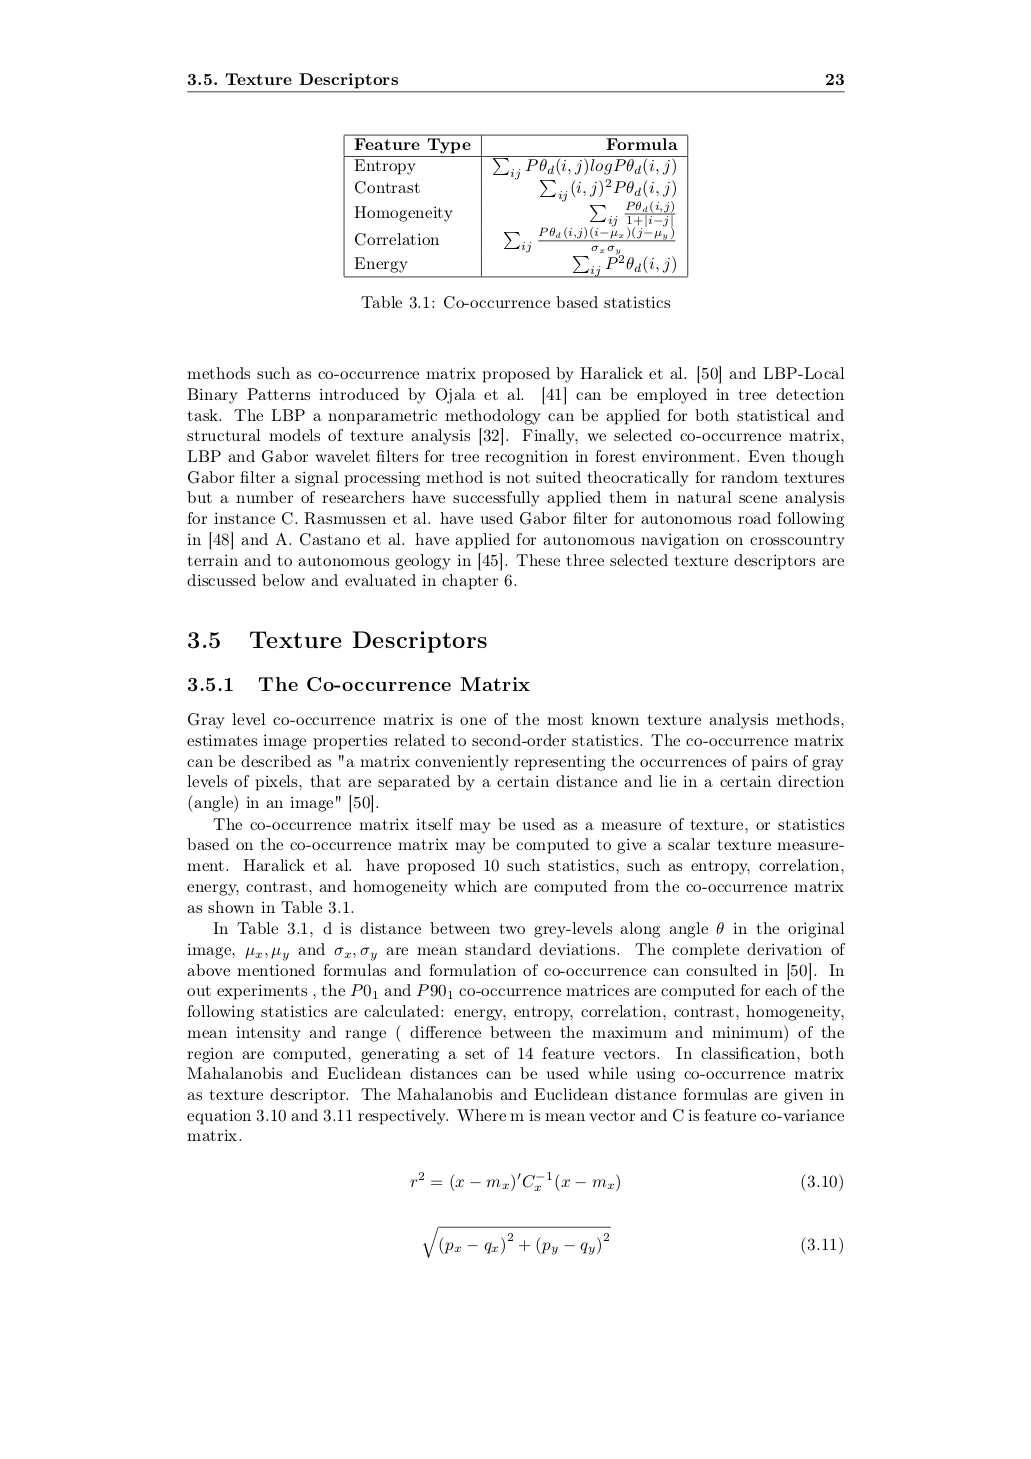Table: (343, 132, 688, 278)
formula: (423, 1225, 842, 1258), (409, 1171, 842, 1192)
